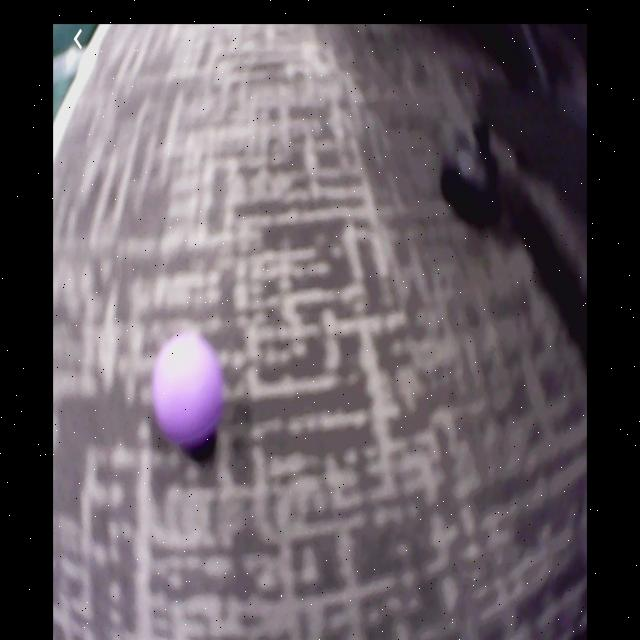ball: (154, 337, 223, 454)
